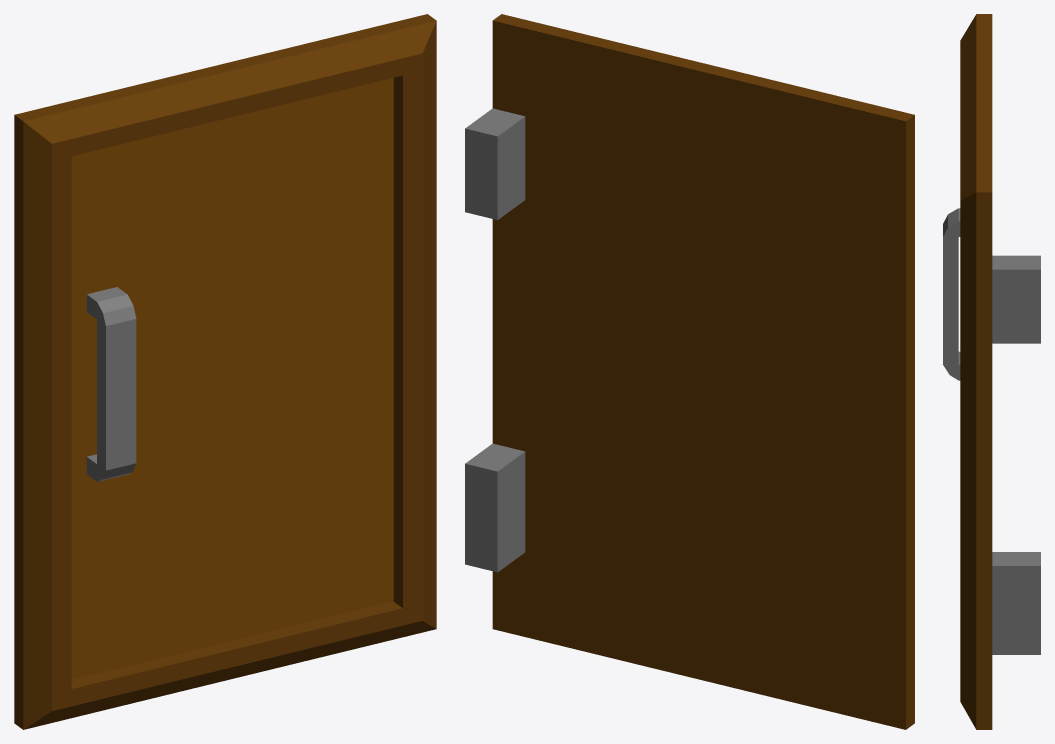
Rendered from High_Cupboard_Safe_Door_Right.fbx.
3 views of the same model, side by side, from view 1: azimuth 30°, elevation 25°; view 2: azimuth 150°, elevation 25°; view 3: azimuth 270°, elevation 25° (orthographic). The views are drawn at different scales.
Parts seen in each view (by area): view 1: Cube.131; view 2: Cube.131; view 3: Cube.131.
Part boxes in pixels (<box>): Cube.131: <box>14,14,436,729</box>; Cube.131: <box>465,14,914,729</box>; Cube.131: <box>943,14,1040,729</box>.
Bounding box in the file's own units: 48.92 × 68.85 × 11.37.
